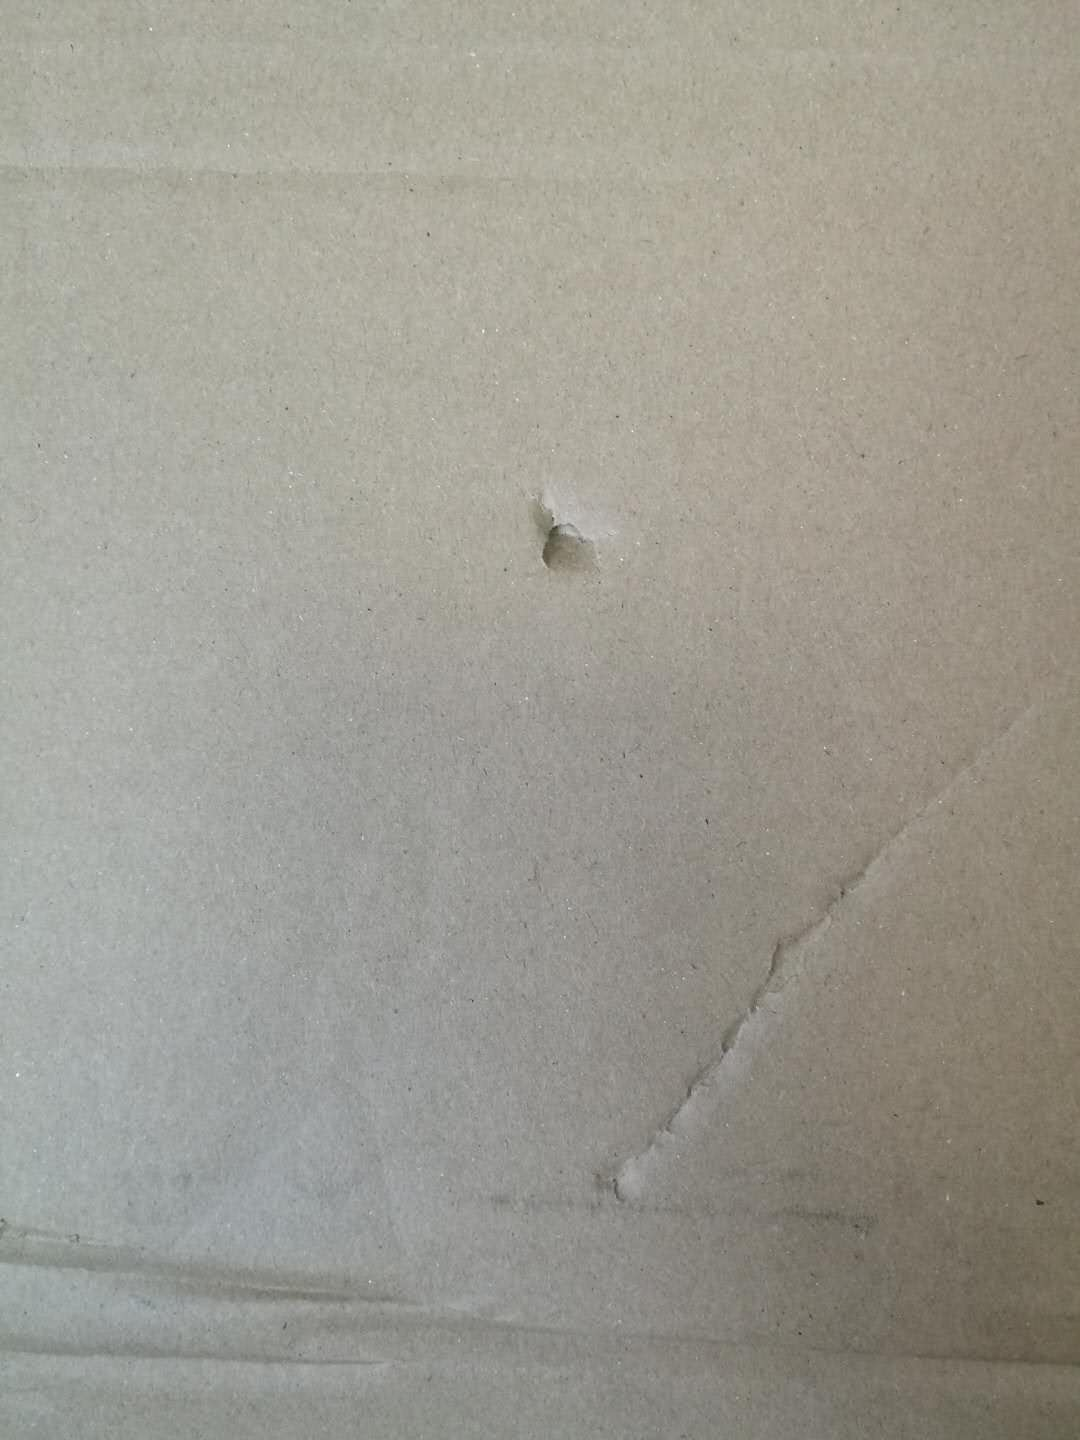defect: (455, 679, 1080, 1245), (2, 1176, 1080, 1435), (1, 107, 665, 232), (503, 452, 657, 618)
